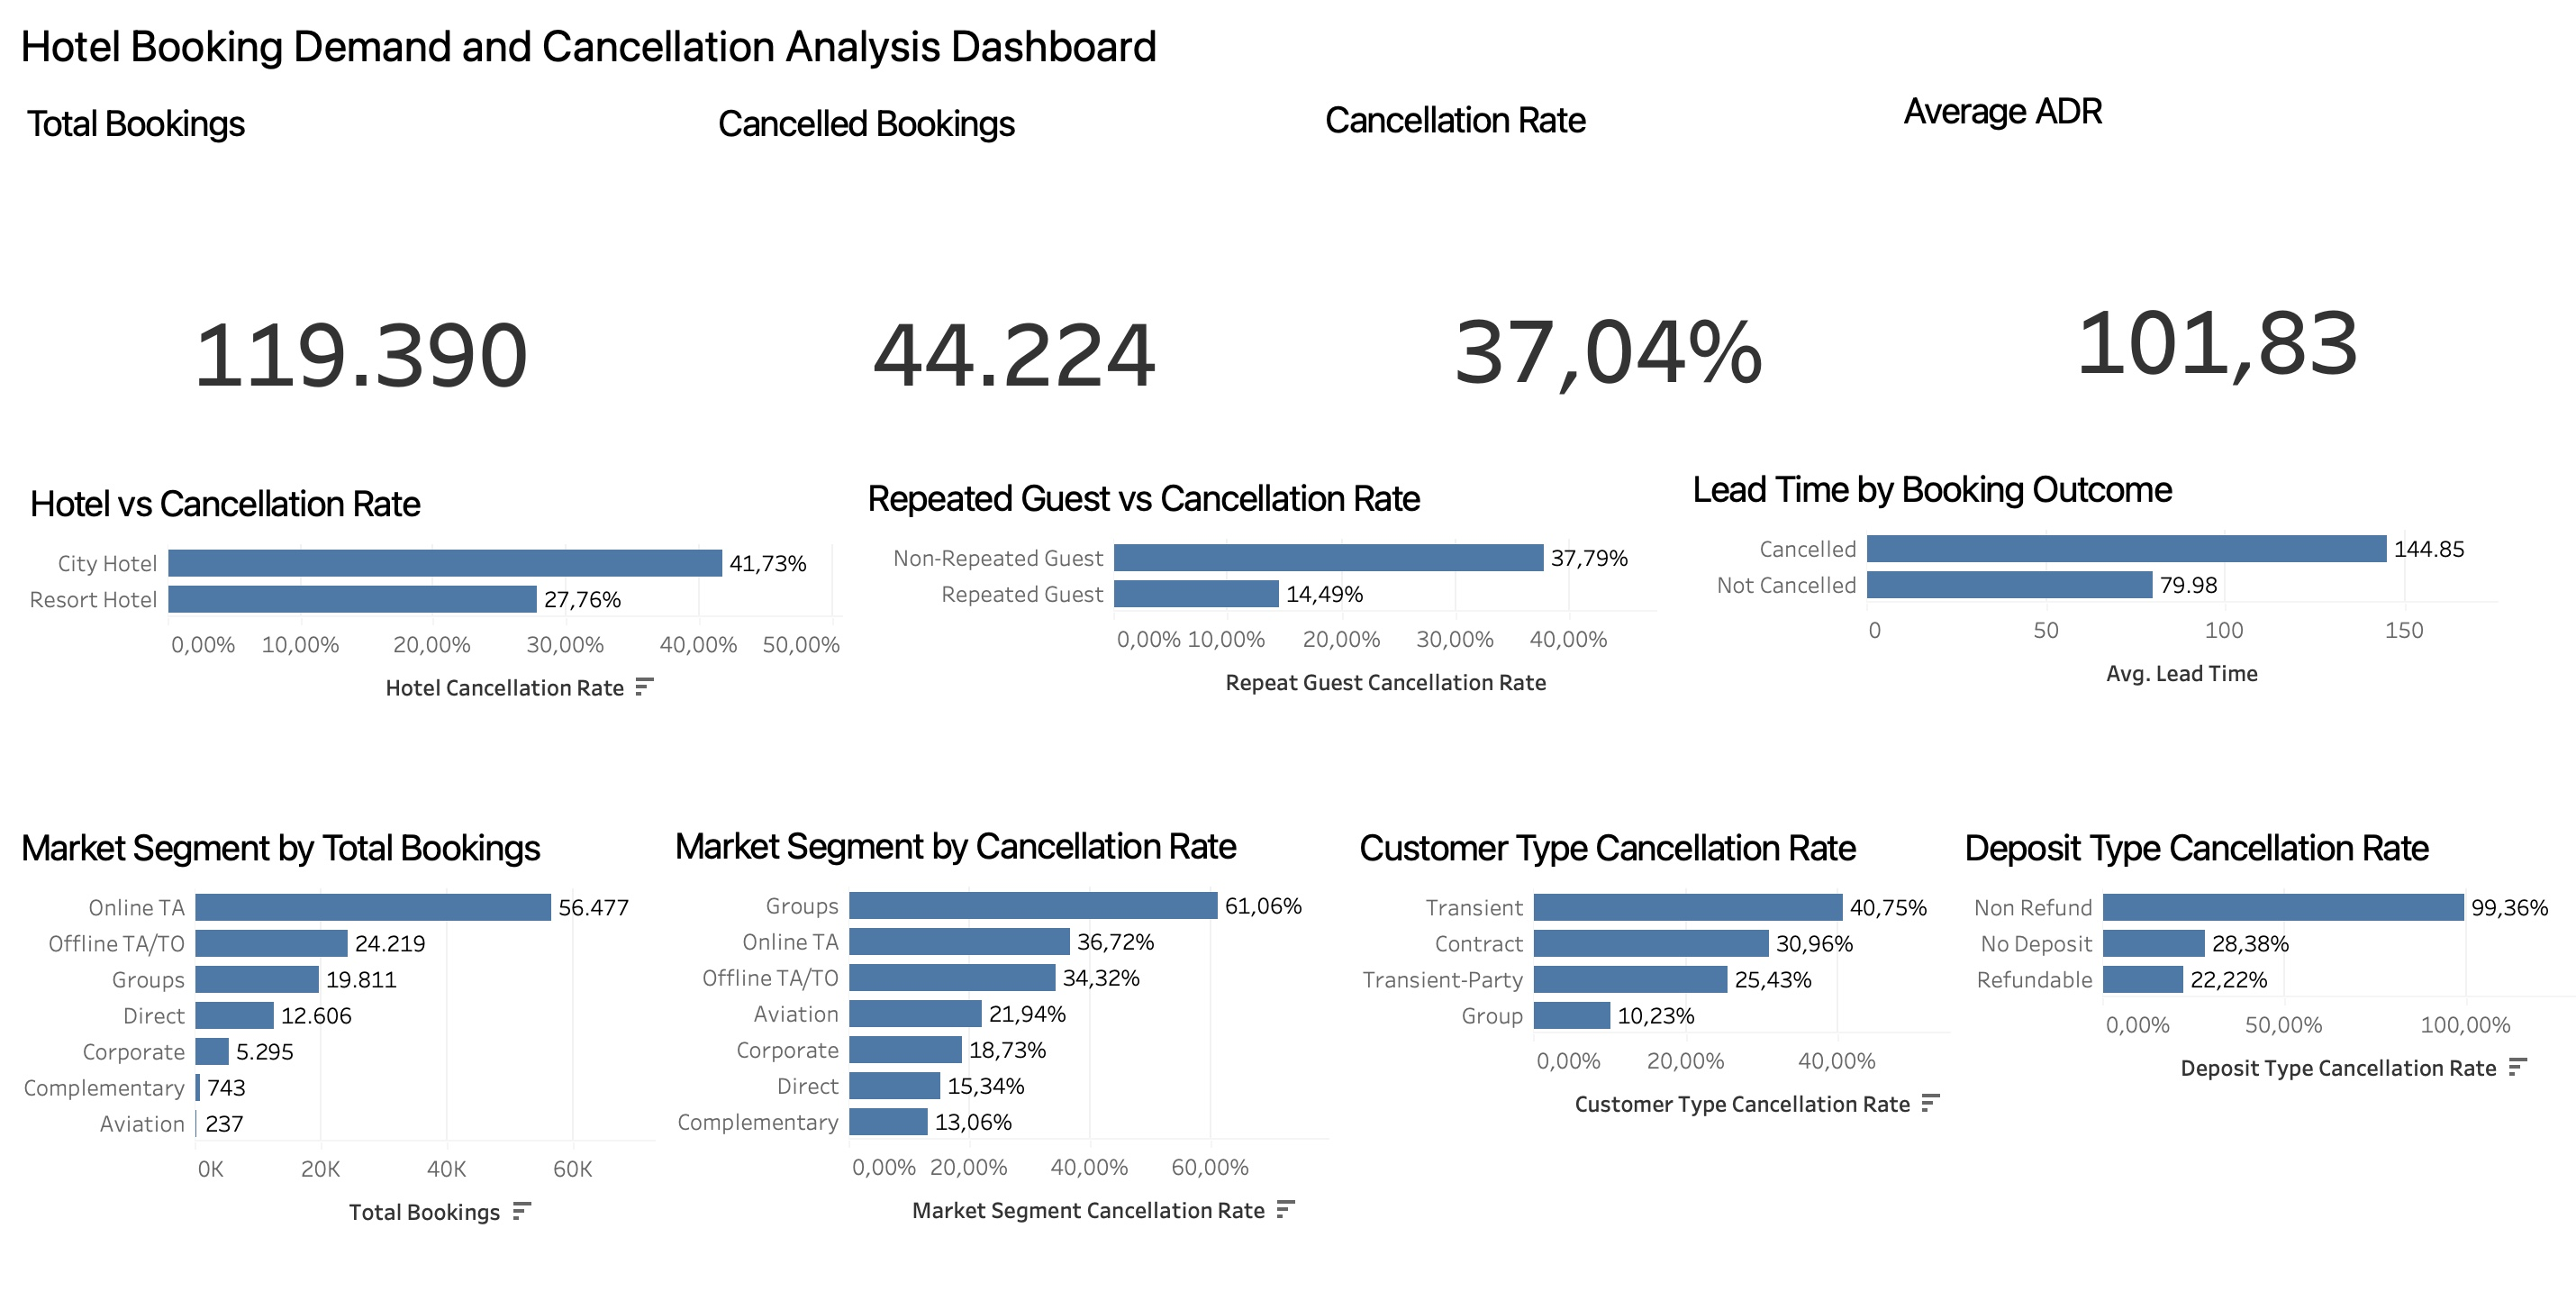

The page's visual inventory and layout, read from the dashboard file:
{"tool":"tableau","page":{"name":"Dashboard 1","canvas":[1000,1000],"units":"permille","ordinal":0},"visuals":[{"type":"title","box":[5.5,10.8,988.9,49.9]},{"type":"worksheet","title":"Average ADR","mark":"Text","box":[731.5,62,247.8,332.9]},{"type":"worksheet","title":"Cancellation Rate","mark":"Automatic","box":[509.1,68.7,224,332.9]},{"type":"worksheet","title":"Total Bookings","mark":"Text","box":[9.5,71.4,263.7,332.9]},{"type":"worksheet","title":"Cancelled Bookings","mark":"Text","box":[275.6,71.4,233.5,332.9]},{"type":"worksheet","title":"Lead Time by Booking Outcome","mark":"Automatic","rows":["Calculation_0733428989583364"],"cols":["lead_time"],"box":[650.5,345,312.2,332.9]},{"type":"worksheet","title":"Repeated Guest vs Cancellation Rate","mark":"Automatic","rows":["Calculation_0733428989415427"],"cols":["Calculation_0733428990132232"],"box":[332.8,351.8,306.6,332.9]},{"type":"worksheet","title":"Hotel vs Cancellation Rate","mark":"Bar","rows":["hotel"],"cols":["Calculation_0733428989882374"],"box":[11.1,355.8,315.3,332.9]},{"type":"worksheet","title":"Market Segment by Cancellation Rate","mark":"Automatic","rows":["market_segment"],"cols":["Calculation_0733428989997063"],"box":[258.9,611.9,254.2,378.7]},{"type":"worksheet","title":"Market Segment by Total Bookings","mark":"Automatic","rows":["market_segment"],"cols":["Calculation_0733428989009920"],"box":[7.9,613.2,246.2,332.9]},{"type":"worksheet","title":"Customer Type Cancellation Rate","mark":"Automatic","rows":["customer_type"],"cols":["Calculation_0733428990275593"],"box":[521.8,613.2,230.3,332.9]},{"type":"worksheet","title":"Deposit Type Cancellation Rate","mark":"Automatic","rows":["deposit_type"],"cols":["Calculation_0733428990365706"],"box":[754.6,613.2,237.5,332.9]}]}

Visuals, with their boxes on the dashboard's canvas, which has no fixed pixel size, in thousandths of its width and height (x1, y1, x2, y2). These are canvas units, not pixel positions in the 2576x1310 screenshot, which may show the page scaled, cropped or inside an application window:
title: <bbox>6, 11, 994, 61</bbox>
"Average ADR" worksheet (Text marks): <bbox>732, 62, 979, 395</bbox>
"Cancellation Rate" worksheet: <bbox>509, 69, 733, 402</bbox>
"Total Bookings" worksheet (Text marks): <bbox>10, 71, 273, 404</bbox>
"Cancelled Bookings" worksheet (Text marks): <bbox>276, 71, 509, 404</bbox>
"Lead Time by Booking Outcome" worksheet: <bbox>650, 345, 963, 678</bbox>
"Repeated Guest vs Cancellation Rate" worksheet: <bbox>333, 352, 639, 685</bbox>
"Hotel vs Cancellation Rate" worksheet (Bar marks): <bbox>11, 356, 326, 689</bbox>
"Market Segment by Cancellation Rate" worksheet: <bbox>259, 612, 513, 991</bbox>
"Market Segment by Total Bookings" worksheet: <bbox>8, 613, 254, 946</bbox>
"Customer Type Cancellation Rate" worksheet: <bbox>522, 613, 752, 946</bbox>
"Deposit Type Cancellation Rate" worksheet: <bbox>755, 613, 992, 946</bbox>
